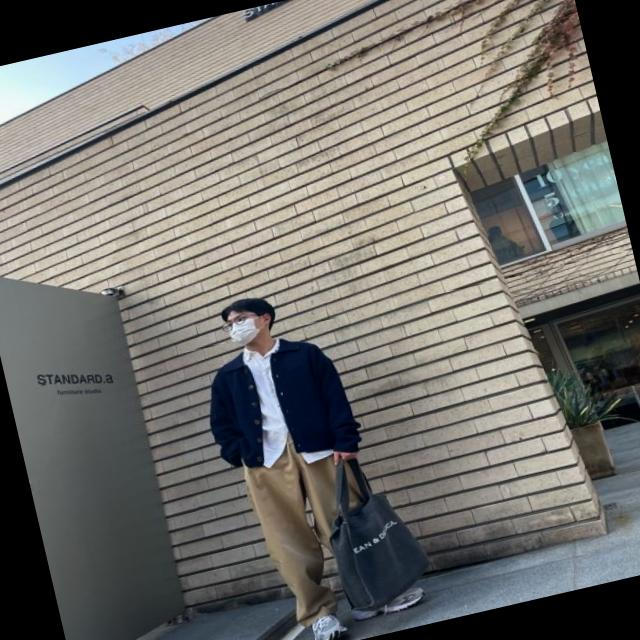cardigan: (193, 328, 365, 482)
cottonpants: (237, 424, 391, 635)
